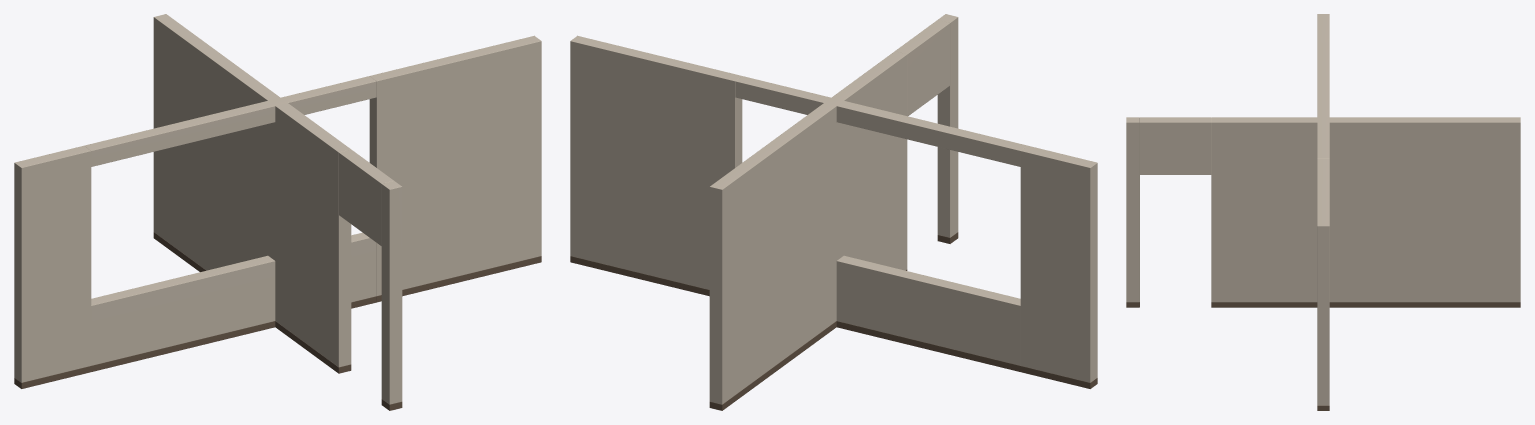
The model's file is walls_v06a.glb.
The picture shows the model from 3 angles, left to right: view 1: azimuth 30°, elevation 25°; view 2: azimuth 150°, elevation 25°; view 3: azimuth 270°, elevation 25°; orthographic projection. The views are drawn at different scales.
Parts seen in each view (by area): view 1: VIS_WallRightPlaster, VIS_WallLeftPlaster, VIS_WallRightSkirting, VIS_WallLeftSkirting; view 2: VIS_WallRightPlaster, VIS_WallLeftPlaster, VIS_WallRightSkirting, VIS_WallLeftSkirting; view 3: VIS_WallLeftPlaster, VIS_WallRightPlaster, VIS_WallLeftSkirting.
Part boxes in pixels (x1,y1,x2,y2): VIS_WallRightPlaster: (14, 35, 541, 382); VIS_WallLeftPlaster: (153, 14, 402, 404); VIS_WallRightSkirting: (14, 256, 541, 388); VIS_WallLeftSkirting: (153, 232, 402, 410); VIS_WallRightPlaster: (570, 35, 1097, 382); VIS_WallLeftPlaster: (709, 14, 958, 404); VIS_WallRightSkirting: (570, 256, 1097, 388); VIS_WallLeftSkirting: (709, 232, 958, 410); VIS_WallLeftPlaster: (1126, 117, 1520, 302); VIS_WallRightPlaster: (1317, 14, 1329, 405); VIS_WallLeftSkirting: (1126, 302, 1520, 307).
Size of the model in its own units: 7.38 by 3 by 5.8.
